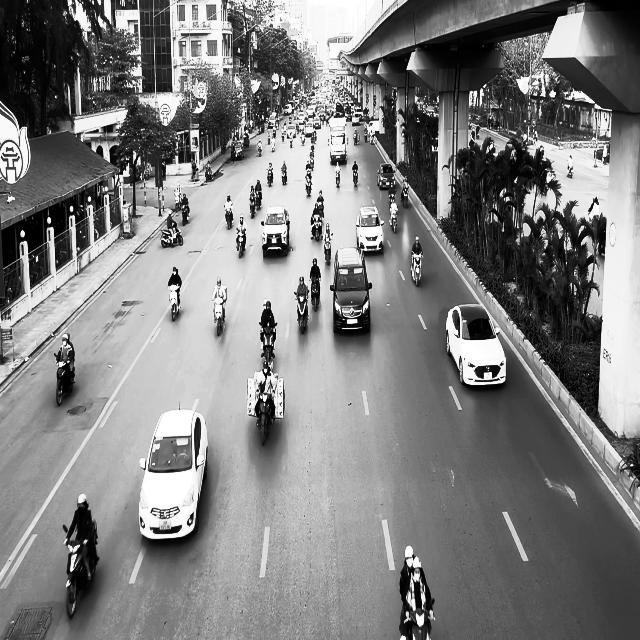car: (138, 400, 208, 540), (445, 303, 506, 387), (329, 246, 372, 334), (261, 205, 290, 257), (356, 205, 384, 254), (377, 162, 396, 189)
motorbike: (62, 520, 99, 618), (54, 350, 75, 406), (255, 392, 275, 446), (259, 321, 277, 369), (212, 290, 227, 336), (294, 290, 308, 333), (168, 283, 181, 321), (161, 225, 183, 247), (410, 251, 423, 286), (310, 276, 321, 311), (235, 228, 247, 258), (323, 233, 333, 265), (311, 213, 322, 241), (389, 204, 398, 233), (224, 205, 233, 229), (305, 173, 313, 196), (181, 203, 189, 225), (249, 196, 256, 218), (401, 186, 408, 207), (174, 190, 181, 210), (566, 162, 574, 178), (267, 167, 273, 187), (352, 167, 358, 186), (281, 169, 287, 185), (335, 169, 340, 187)
truck: (328, 117, 348, 164)
